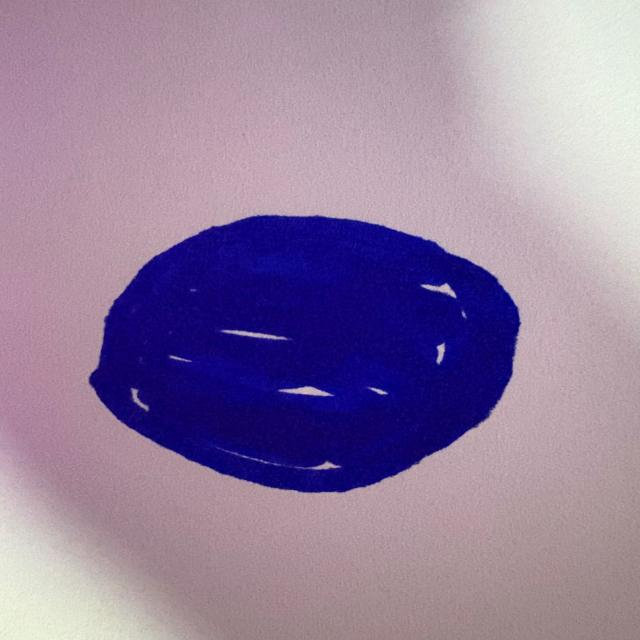Circle: (84, 210, 526, 496)
